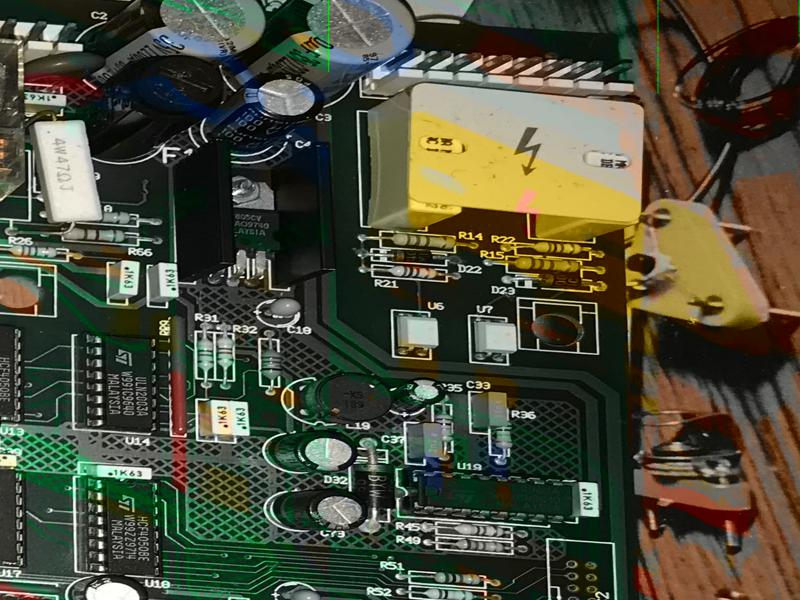Capacitor: (214, 1, 419, 112), (76, 1, 269, 95), (200, 71, 325, 158), (265, 428, 359, 476), (265, 490, 366, 534), (387, 377, 447, 416), (66, 572, 148, 600), (256, 296, 306, 328)
Diode: (353, 463, 392, 513), (519, 272, 592, 291), (380, 248, 443, 263)
Resistor: (379, 230, 456, 252), (56, 226, 138, 246), (510, 254, 585, 274), (437, 519, 514, 537), (58, 208, 140, 224), (438, 538, 514, 555), (259, 339, 284, 388), (1, 243, 70, 260), (413, 570, 486, 585), (491, 410, 514, 457), (216, 332, 237, 382), (377, 265, 446, 280), (522, 240, 591, 255), (194, 332, 216, 379), (413, 587, 486, 600), (434, 406, 455, 451)
